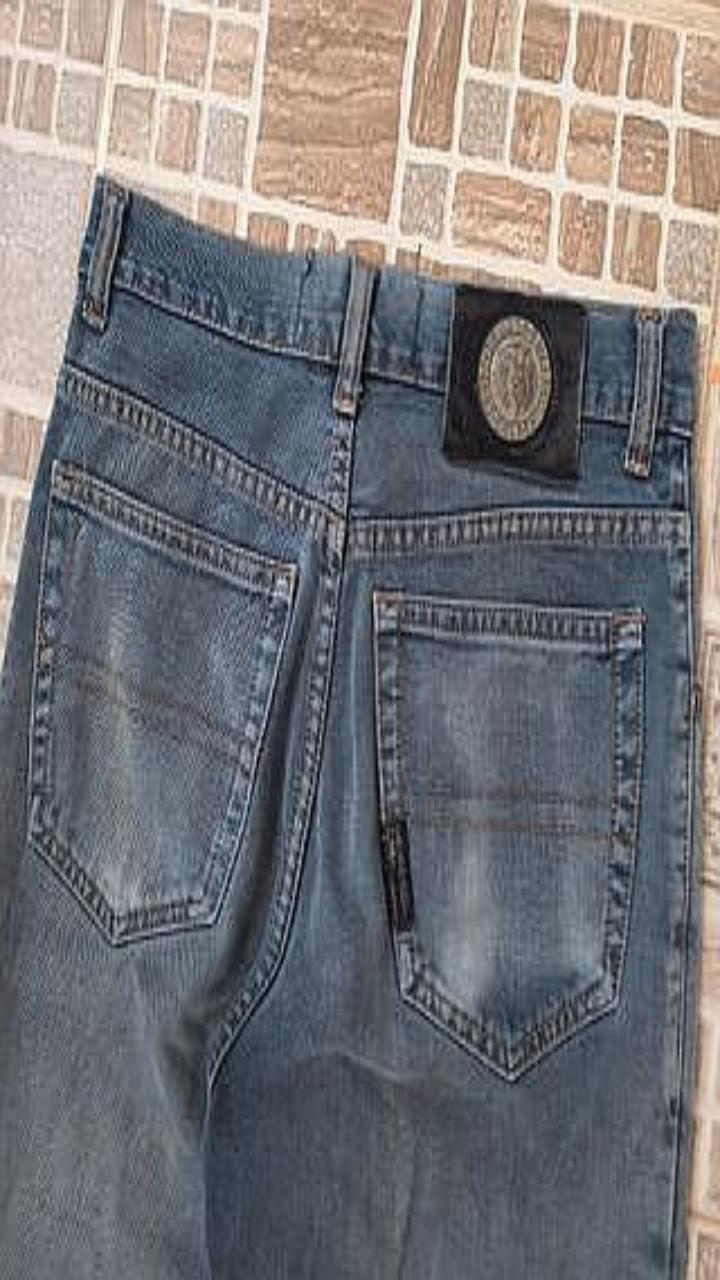Shorts: (0, 173, 699, 1279)
